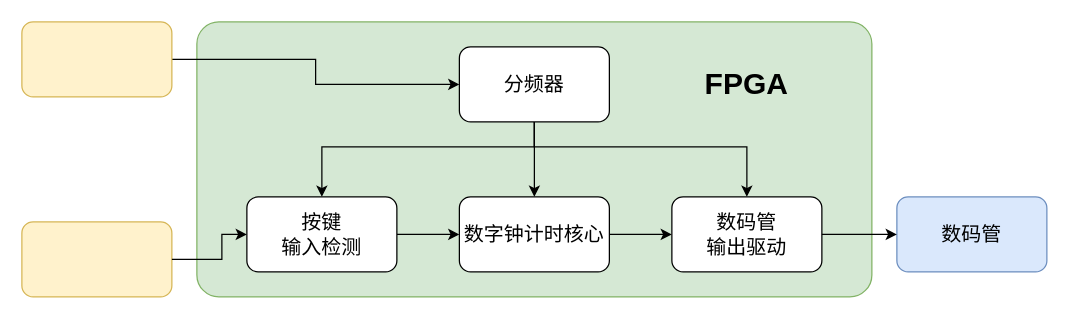
The diagram is 1069 pixels wide and 319 high, and some of its shapes have lost their labels. The shapes that lost their labels are listed below. From the top down, each one's box as (x1, y1, x2, y2) in pixels, then its label:
(21, 21, 172, 97): 时钟源
(21, 221, 172, 297): 按键
